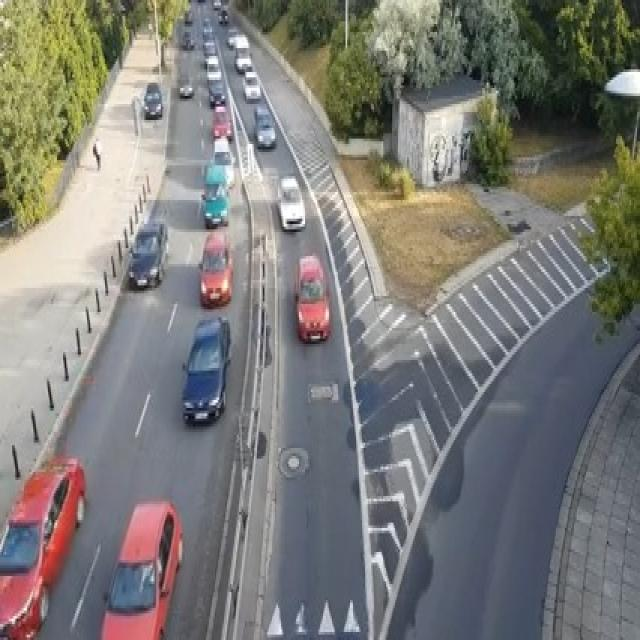car: (0, 453, 86, 638), (99, 499, 183, 637), (180, 315, 232, 424), (293, 254, 330, 342), (197, 226, 233, 306), (128, 219, 168, 288), (276, 173, 305, 230), (200, 181, 228, 227), (210, 136, 234, 187), (252, 104, 276, 147), (143, 80, 162, 117), (212, 104, 231, 139), (242, 70, 261, 102), (235, 45, 252, 72), (208, 80, 225, 107), (206, 53, 221, 83), (203, 37, 216, 67), (178, 72, 192, 96), (180, 29, 194, 48), (234, 32, 250, 48), (201, 16, 212, 37), (227, 27, 237, 48), (218, 8, 228, 24), (184, 8, 192, 24), (212, 0, 221, 8), (197, 0, 206, 3)
